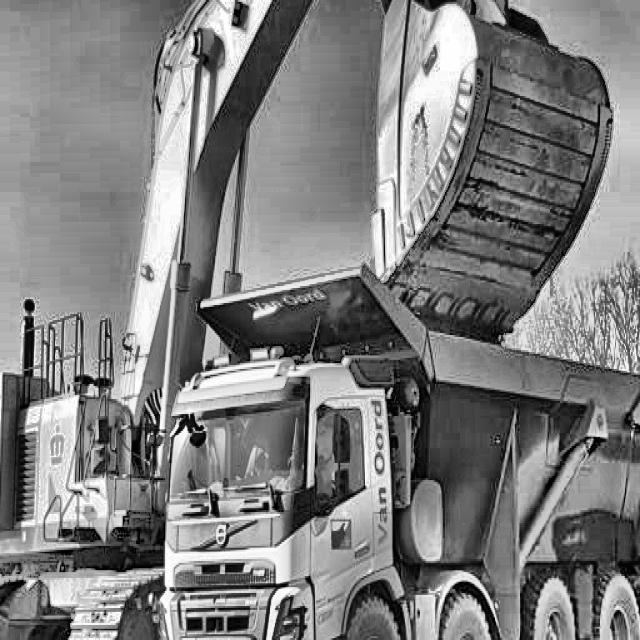dump_truck: (174, 261, 640, 640)
excavator: (0, 0, 608, 326)
